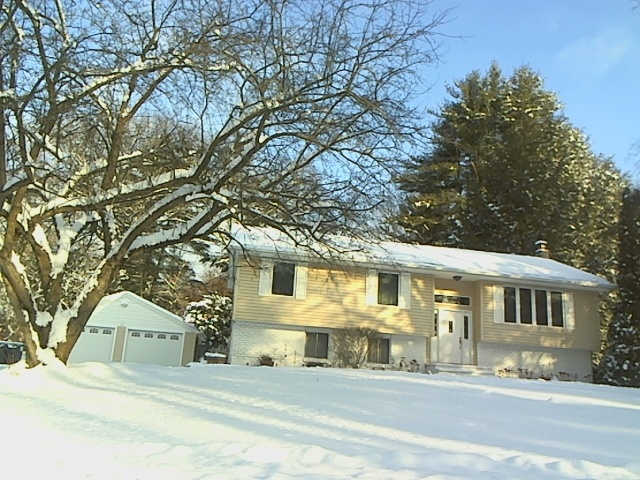Unploughed: (78, 353, 189, 405), (433, 290, 477, 414)
